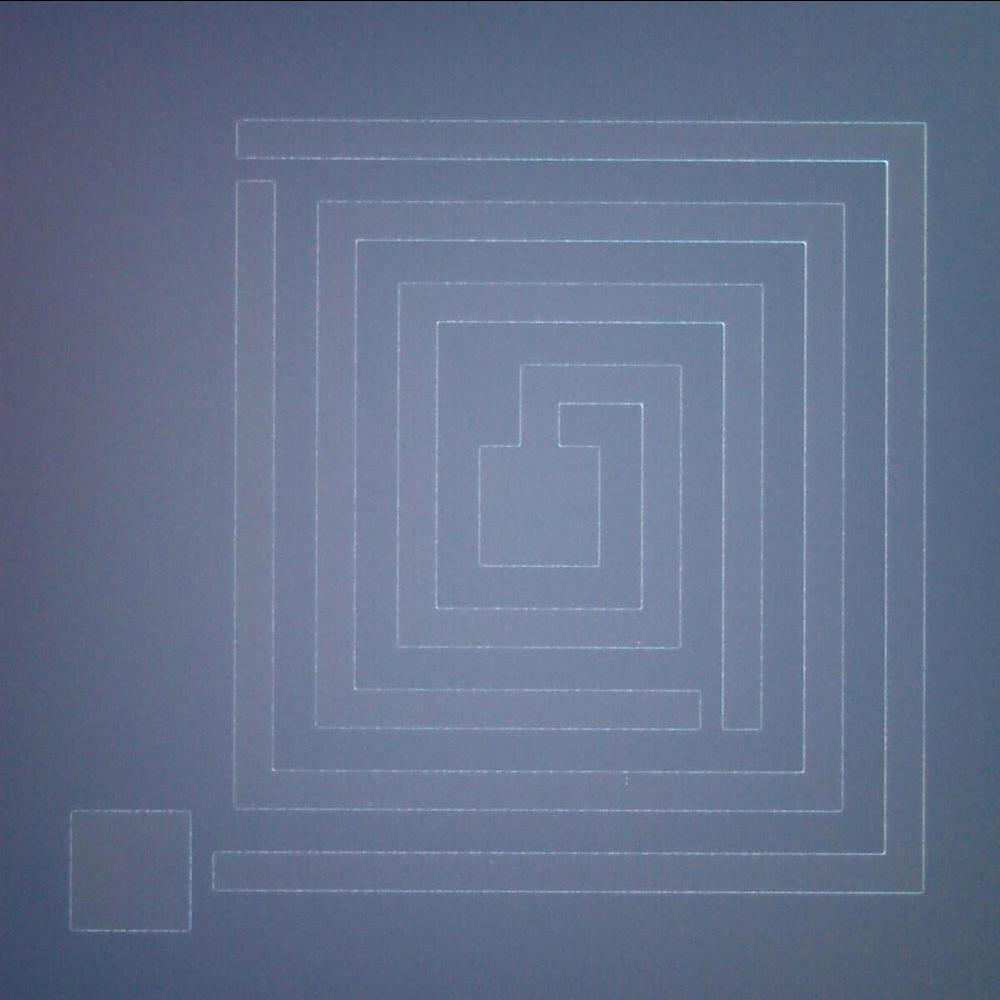short circuit: (178, 837, 231, 901), (227, 142, 286, 196), (684, 678, 735, 739)
